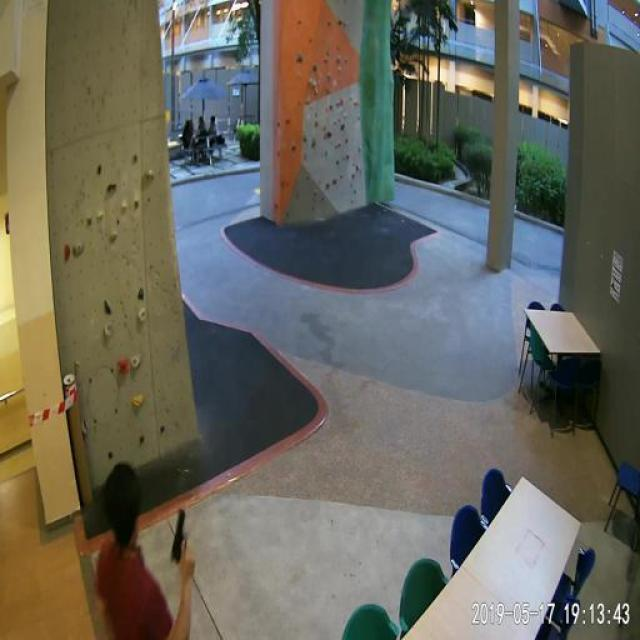Gun: (166, 494, 197, 577)
